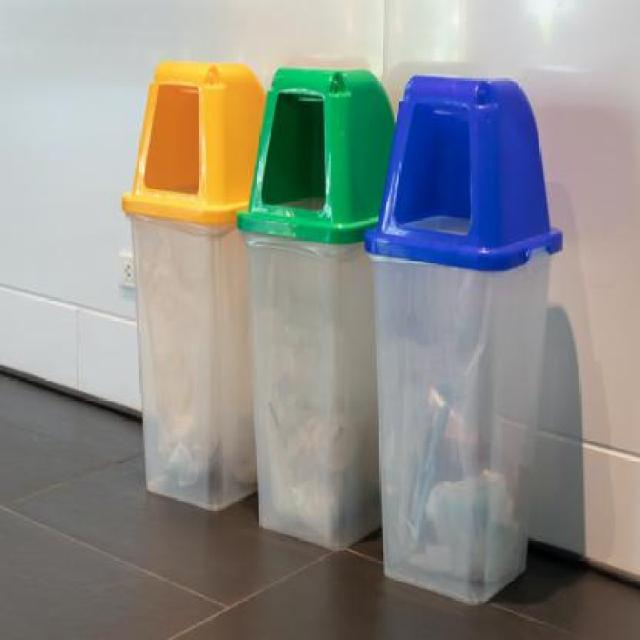garbage container: (362, 61, 569, 616), (232, 54, 400, 560), (116, 46, 267, 520)
